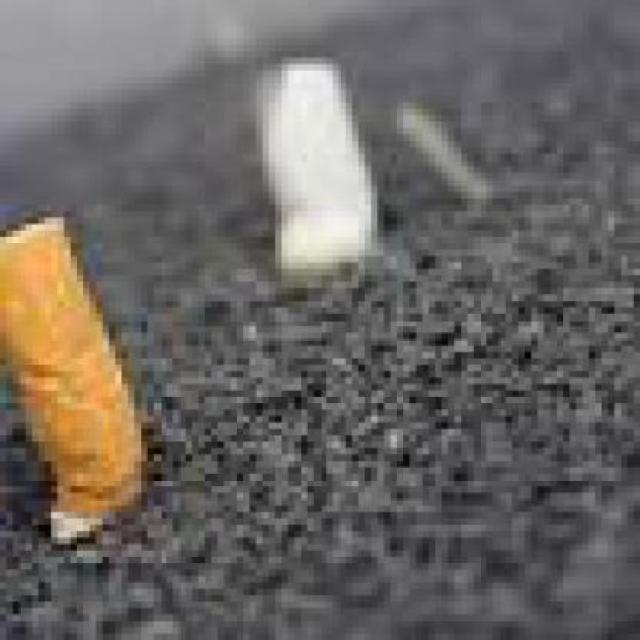cigarette: (224, 32, 410, 270), (0, 217, 115, 556)
